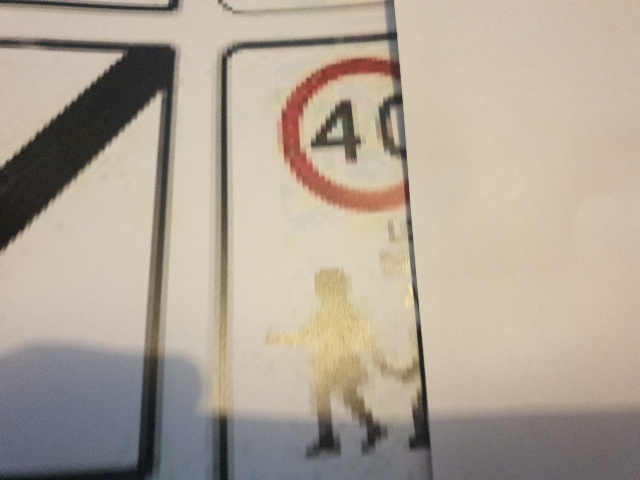sp40: (270, 58, 483, 215)
